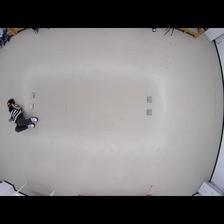fall: (7, 98, 41, 134)
